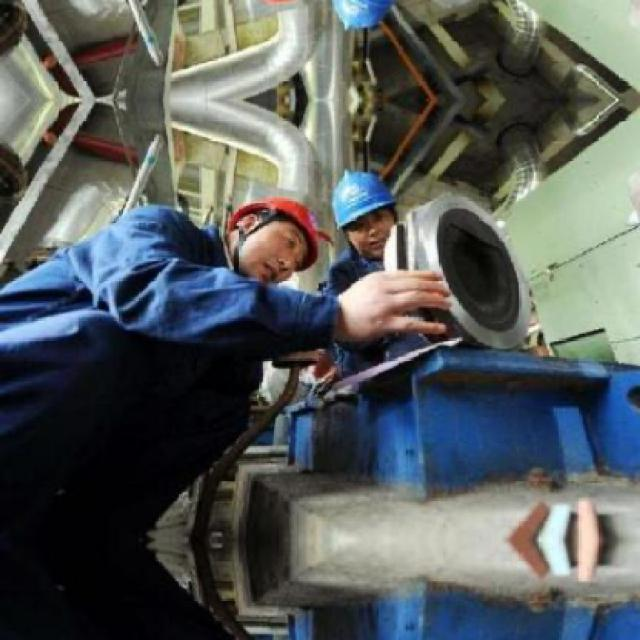2: (3, 195, 326, 536), (2, 542, 326, 638), (315, 164, 423, 384)
helmet: (222, 186, 324, 285), (322, 164, 404, 258), (320, 0, 405, 34)
